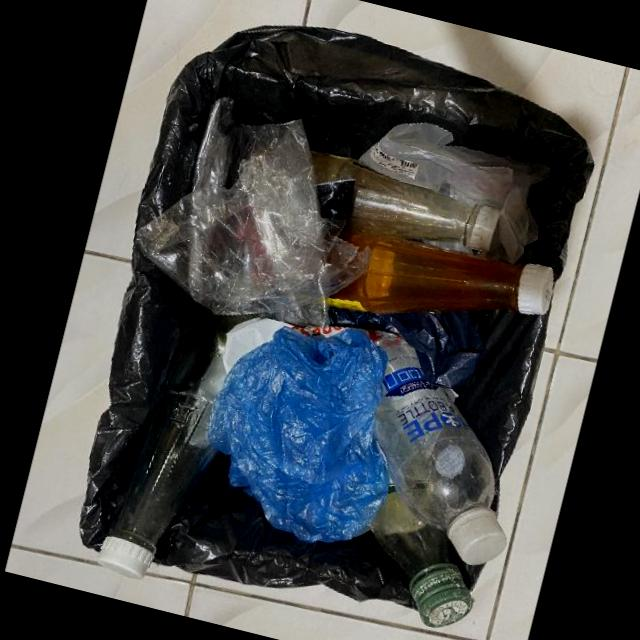chai_nhua_pet: (341, 339, 506, 565)
chai_thuy_tinh: (95, 302, 275, 578), (233, 141, 501, 252), (250, 224, 553, 314), (369, 474, 473, 626)
tui_ni_long: (207, 325, 390, 543), (358, 124, 549, 263)
